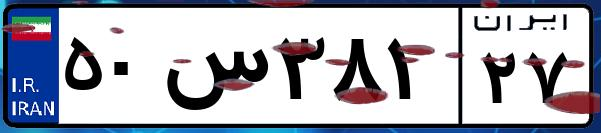0: (110, 28, 158, 98)
1: (385, 28, 445, 110)
2: (475, 38, 525, 113)
3: (270, 28, 330, 110)
5: (57, 26, 110, 100)
7: (525, 38, 570, 115)
8: (330, 28, 385, 110)
س: (158, 20, 270, 120)
